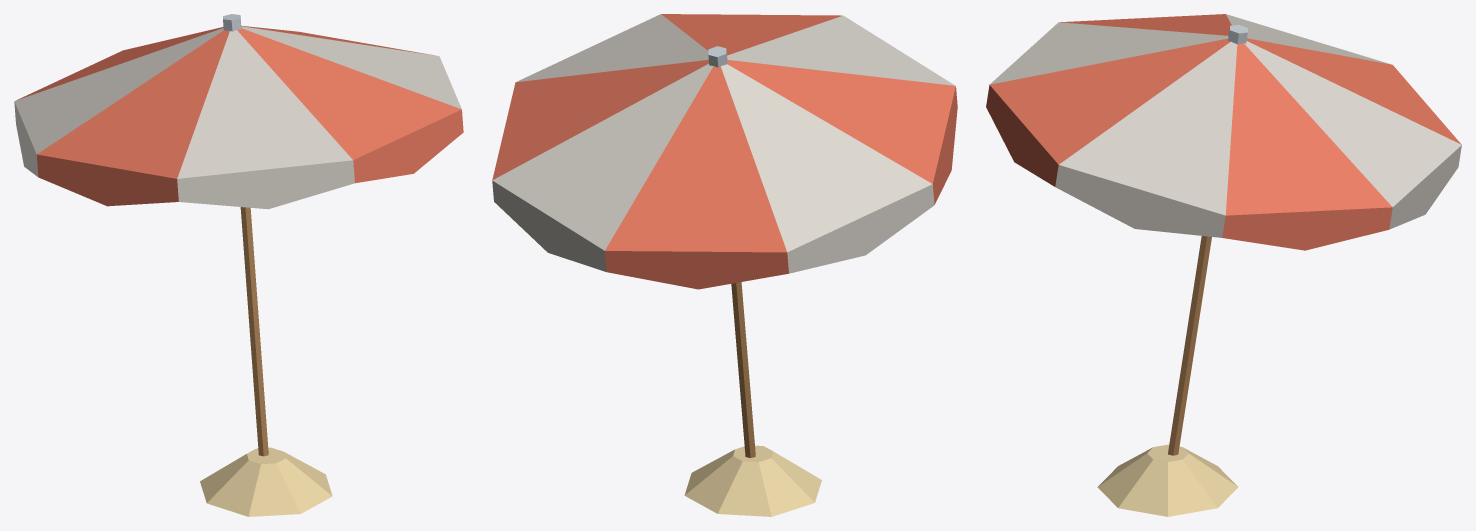
The model's file is beach_umbrella.glb.
3 views of the same model, side by side, from view 1: azimuth 30°, elevation 25°; view 2: azimuth 150°, elevation 25°; view 3: azimuth 270°, elevation 25° (orthographic). The views are drawn at different scales.
Visible parts, largest first — view 1: Body; view 2: Body; view 3: Body.
Boxes of the visible parts, bbox=[...] form: Body: bbox=[14, 14, 463, 516]; Body: bbox=[492, 14, 957, 516]; Body: bbox=[986, 14, 1461, 516].
Bounding box in the file's own units: 2.3 × 2.45 × 2.29.
